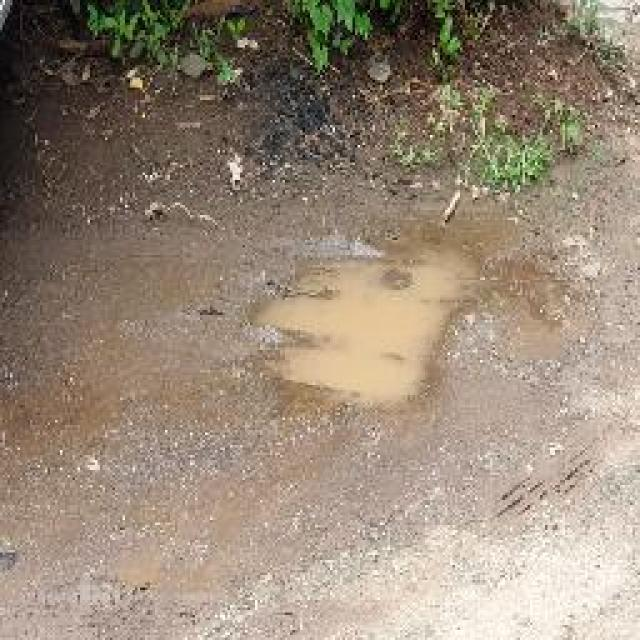puddle: (284, 244, 481, 397)
